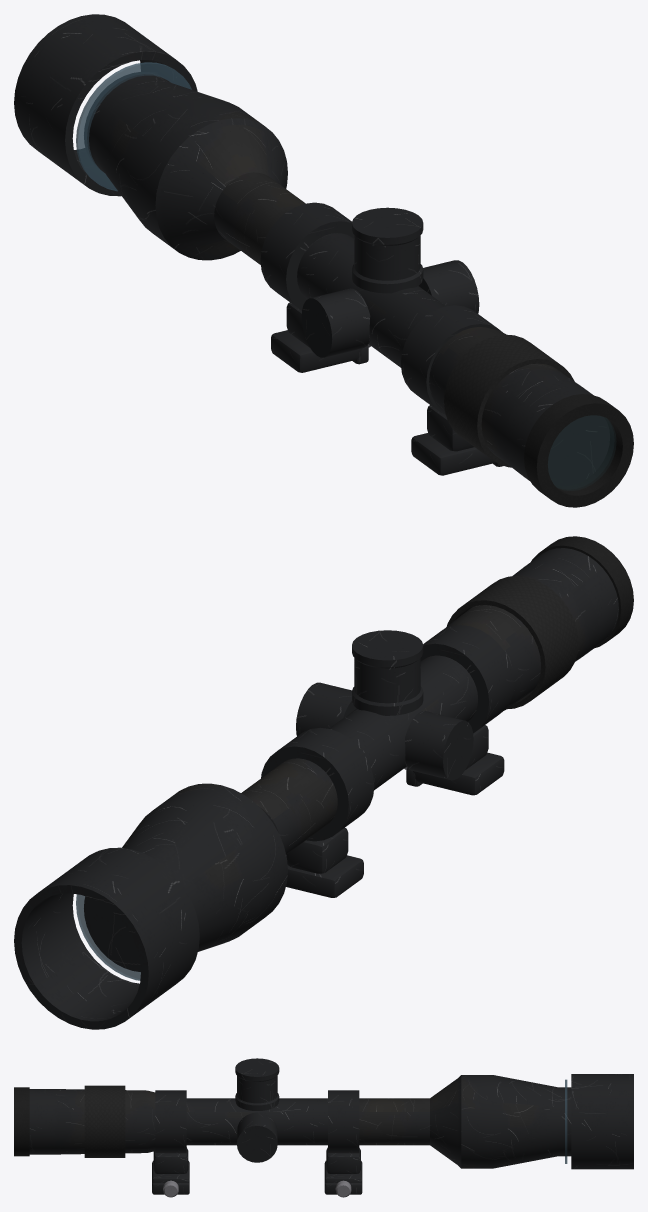
Rendered from Optic_SniperScope.glb.
The picture shows the model from 3 angles, top to bottom: view 1: azimuth 30°, elevation 25°; view 2: azimuth 150°, elevation 25°; view 3: azimuth 270°, elevation 25°; orthographic projection. The views are drawn at different scales.
Parts seen in each view (by area): view 1: Optic_SniperScope_Body; view 2: Optic_SniperScope_Body; view 3: Optic_SniperScope_Body.
Part boxes in pixels (x1,y1,x2,y2): Optic_SniperScope_Body: (14,14,633,507); Optic_SniperScope_Body: (14,536,633,1029); Optic_SniperScope_Body: (14,1058,633,1197).
Size of the model in its own units: 0.066 by 0.082 by 0.395.
7 materials, 4 textured.
